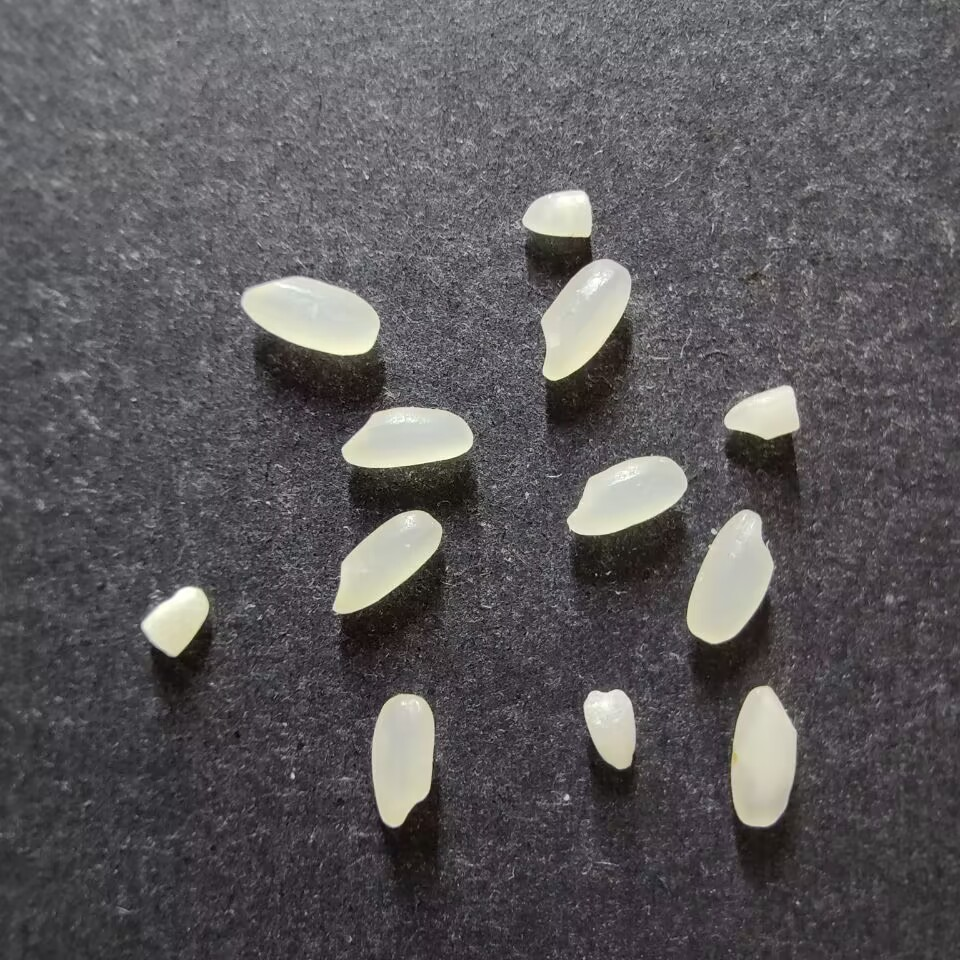broken: (142, 586, 209, 657), (583, 688, 636, 769), (723, 385, 800, 439), (522, 189, 592, 237)
rice: (686, 509, 774, 645), (331, 509, 442, 614), (540, 258, 631, 381), (240, 275, 379, 355), (566, 455, 688, 536), (729, 685, 797, 828), (370, 692, 435, 828), (340, 406, 473, 469)
